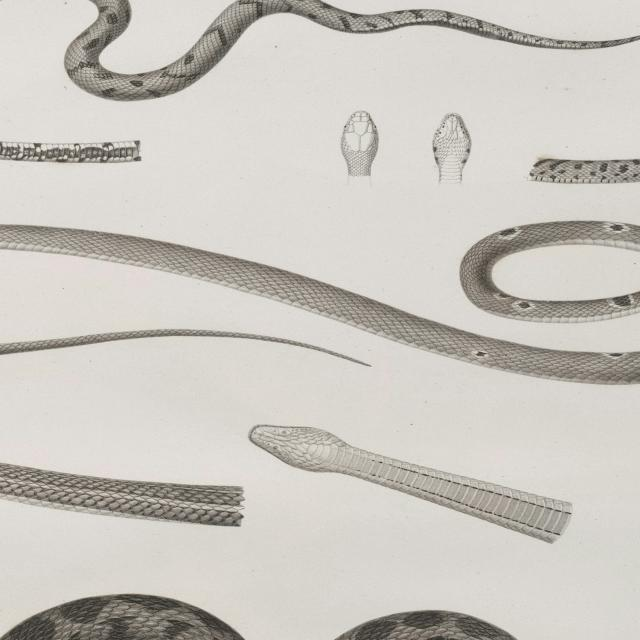Snake: (0, 218, 640, 384), (0, 0, 640, 101), (0, 383, 245, 528)
